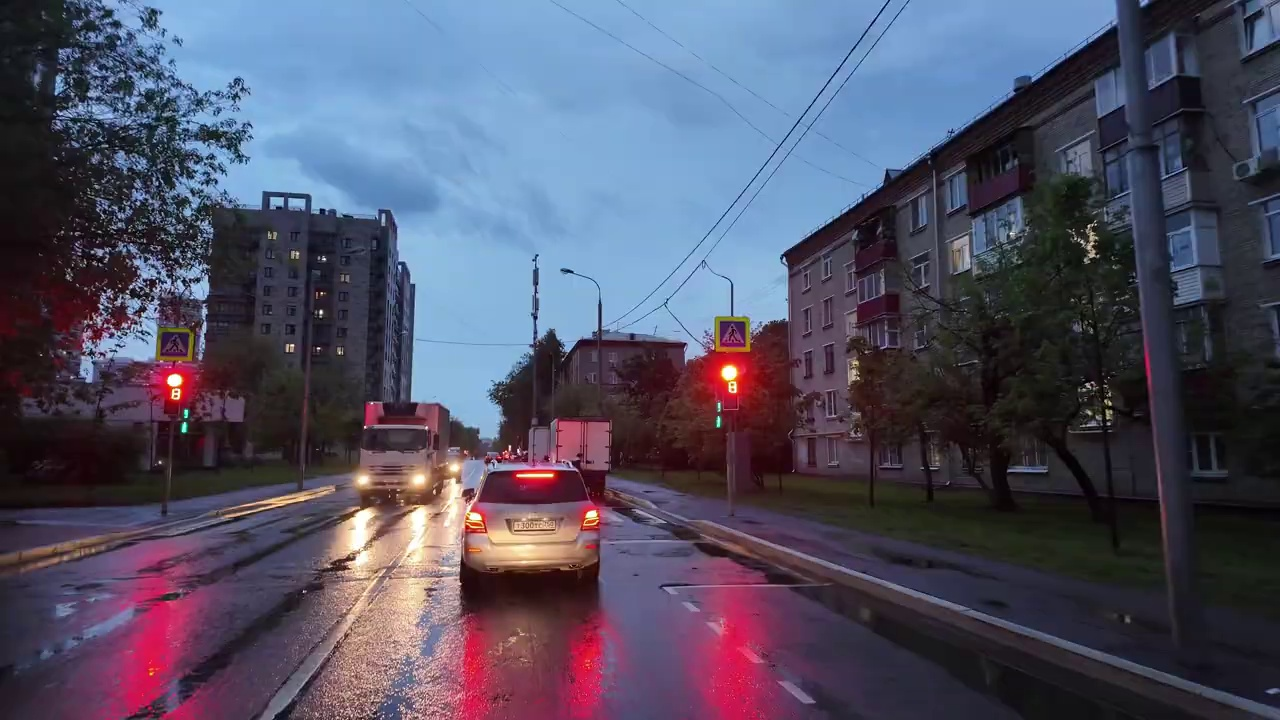apagada: (558, 262, 580, 283)
